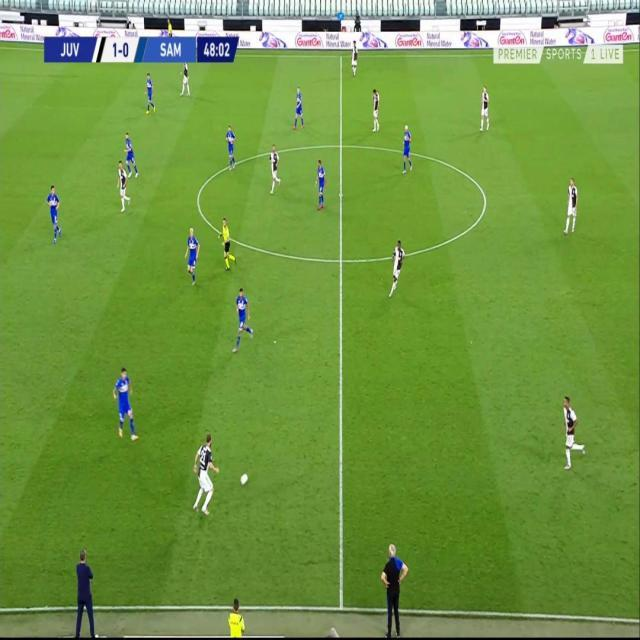ball: (240, 471, 250, 488)
player: (191, 433, 220, 518), (110, 366, 139, 443), (560, 393, 586, 469), (233, 286, 254, 354), (45, 183, 62, 246), (388, 238, 405, 298), (185, 226, 201, 287), (564, 175, 579, 236), (116, 159, 130, 214), (268, 144, 282, 196), (399, 123, 413, 174), (315, 158, 328, 212), (125, 130, 139, 179), (225, 124, 237, 173), (144, 71, 157, 116), (293, 85, 305, 130), (479, 84, 490, 133), (370, 86, 381, 133), (179, 61, 191, 97), (351, 41, 360, 77)
referee: (218, 216, 237, 272), (228, 594, 248, 638)
